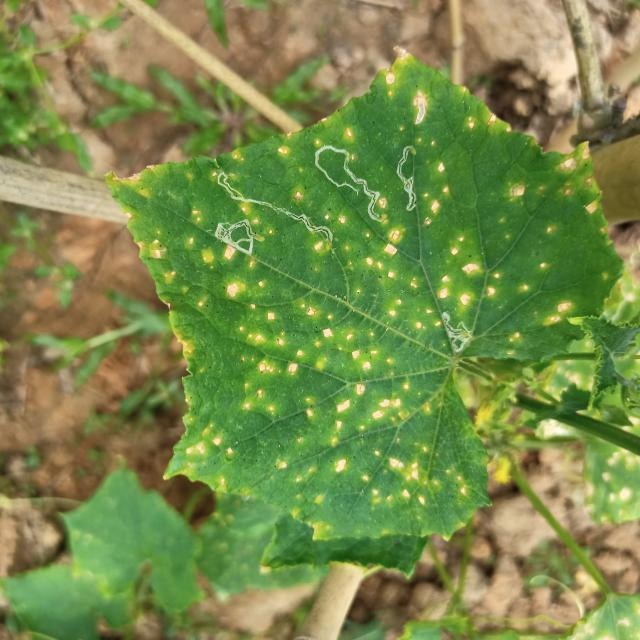disease_cucumber: (199, 74, 603, 354), (124, 242, 486, 530)
